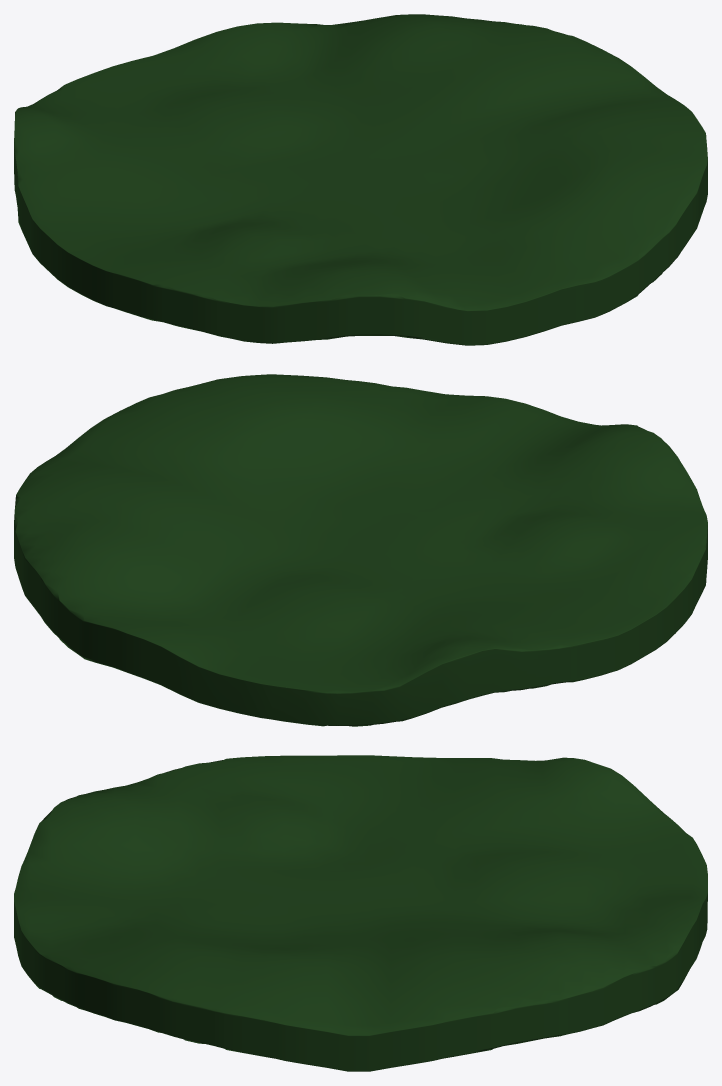
The model's file is 3.2_exam_3dscene_Boden_Simpel.glb.
The picture shows the model from 3 angles, top to bottom: view 1: azimuth 30°, elevation 25°; view 2: azimuth 150°, elevation 25°; view 3: azimuth 270°, elevation 25°; orthographic projection.
Parts seen in each view (by area): view 1: Boden; view 2: Boden; view 3: Boden.
Part boxes in pixels (x1=…): Boden: x1=14, y1=14, x2=707, y2=345; Boden: x1=14, y1=374, x2=707, y2=726; Boden: x1=14, y1=755, x2=707, y2=1071.
Size of the model in its own units: 87.03 by 10.19 by 87.53.
